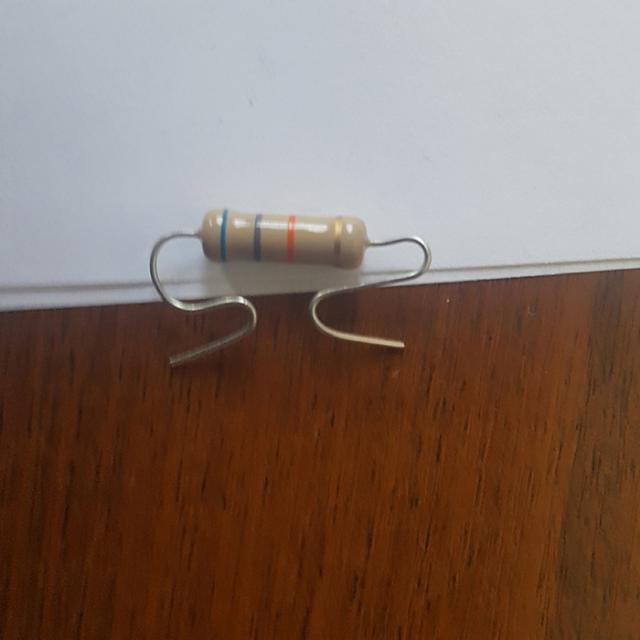blue: (220, 209, 227, 257)
gold: (335, 219, 341, 261)
grey: (253, 216, 262, 257)
orange: (287, 218, 294, 260)
resistor: (174, 174, 379, 281)
